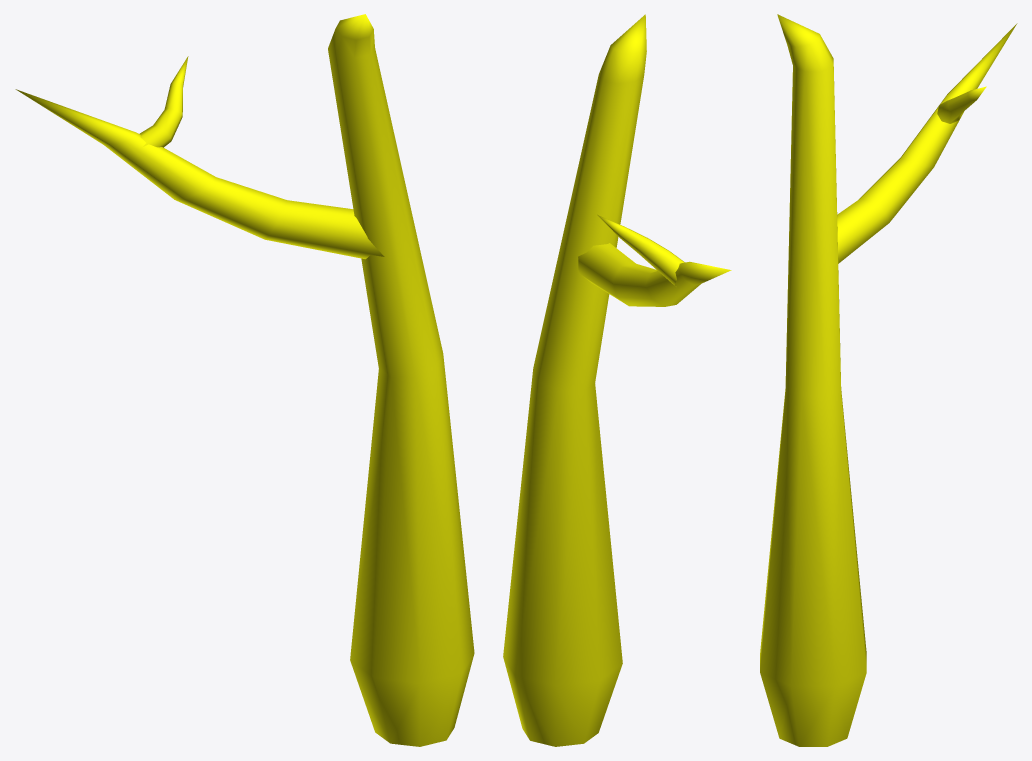
Rendered from kaykit-tree-dead-small.glb.
3 renders of one model, left to right at view 1: azimuth 30°, elevation 25°; view 2: azimuth 150°, elevation 25°; view 3: azimuth 270°, elevation 25°, orthographic. The views are drawn at different scales.
Visible parts, largest first — view 1: tree_dead_small; view 2: tree_dead_small; view 3: tree_dead_small.
Part boxes in pixels (left/top/right/bottom): tree_dead_small: left=15, top=14, right=474, bottom=746; tree_dead_small: left=503, top=14, right=731, bottom=746; tree_dead_small: left=760, top=14, right=1017, bottom=746.
Bounding box in the file's own units: 1.41 × 2.99 × 1.02.
